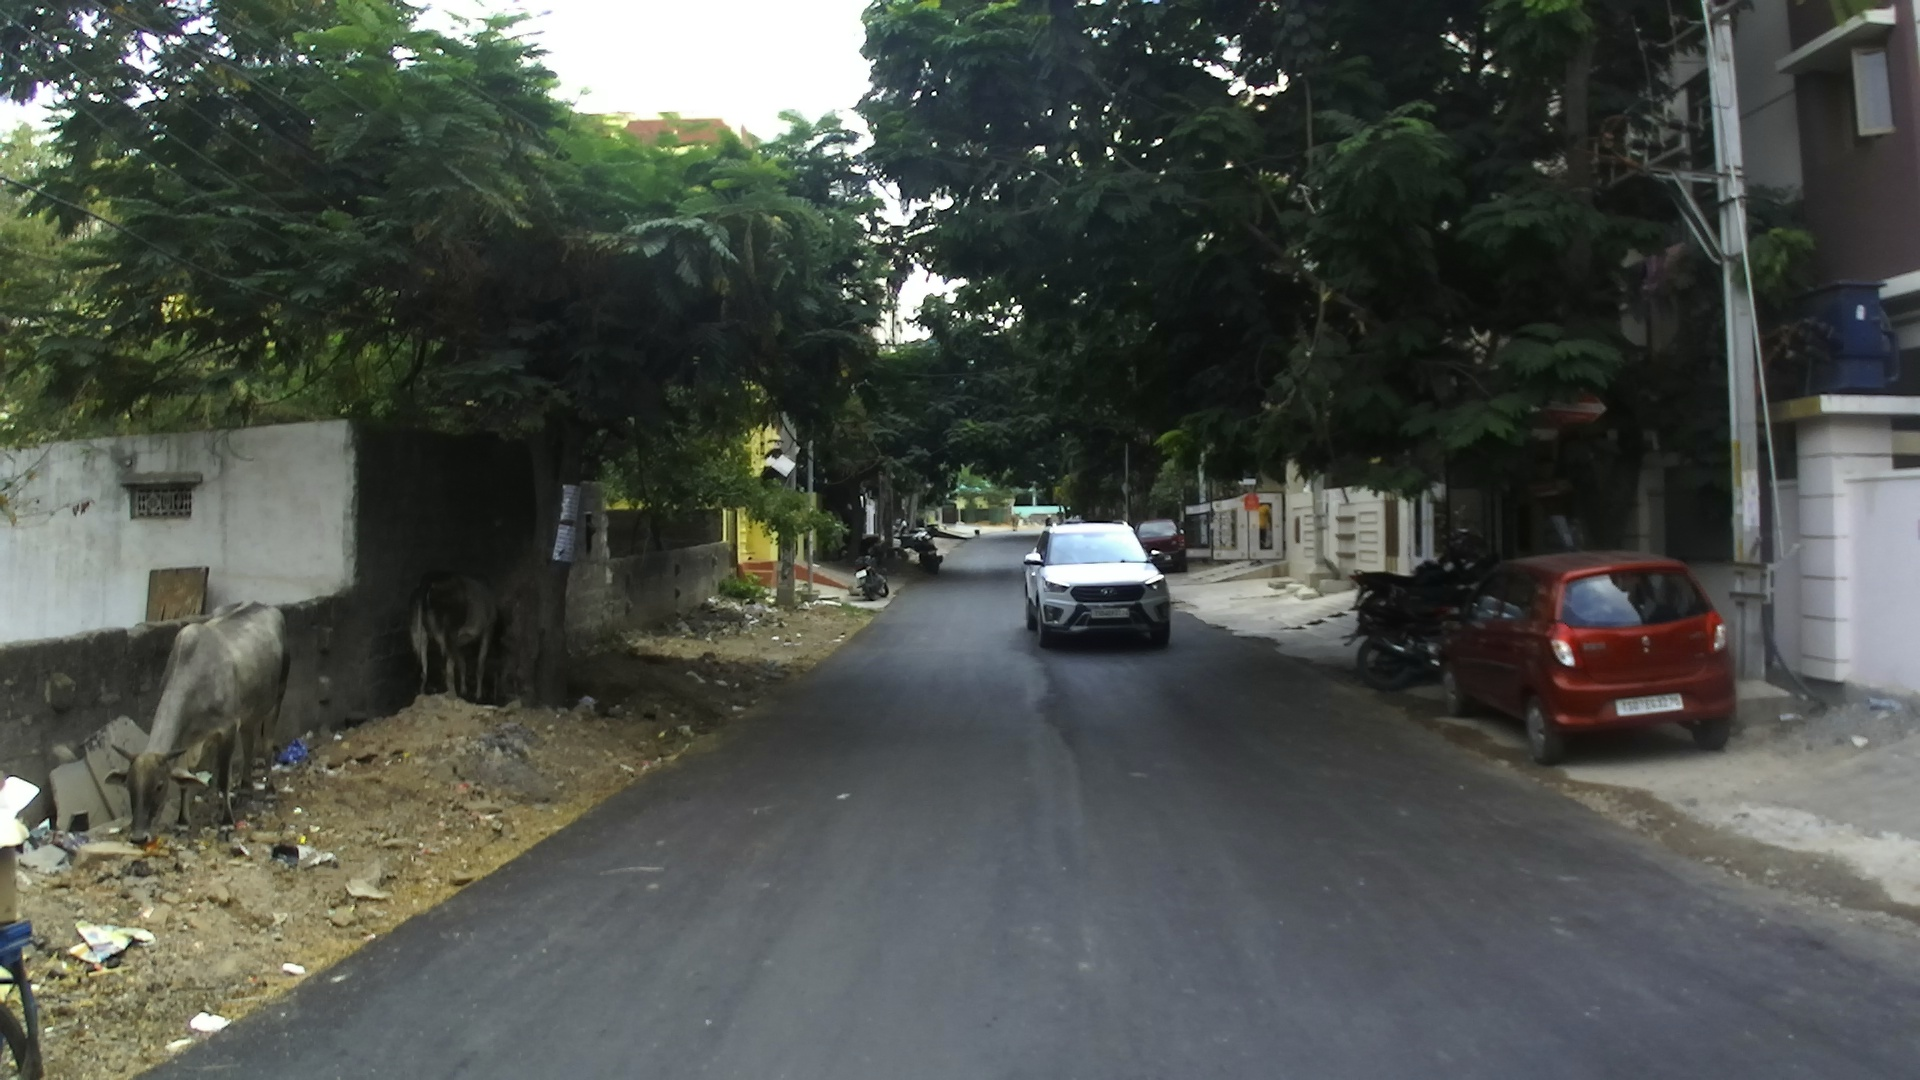vehicle: (1437, 547, 1741, 760), (1349, 535, 1489, 684), (1022, 524, 1175, 647), (1135, 522, 1188, 572), (895, 527, 942, 572)
